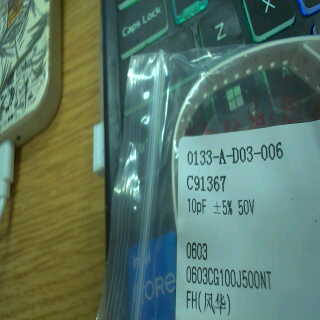10pF: (184, 194, 211, 221)
